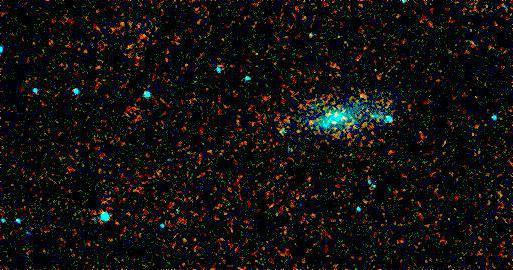star: (343, 80, 373, 110)
